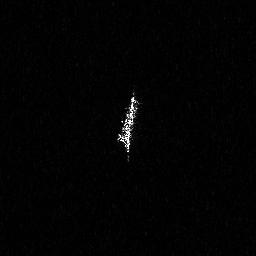ship: (113, 92, 141, 165)
